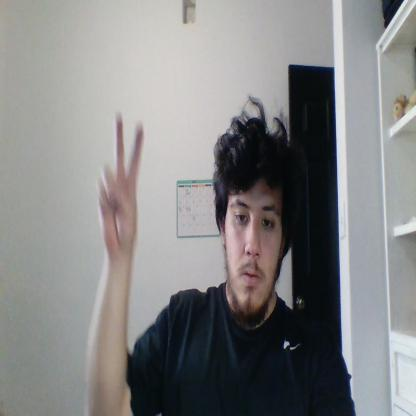V: (96, 112, 144, 254)
